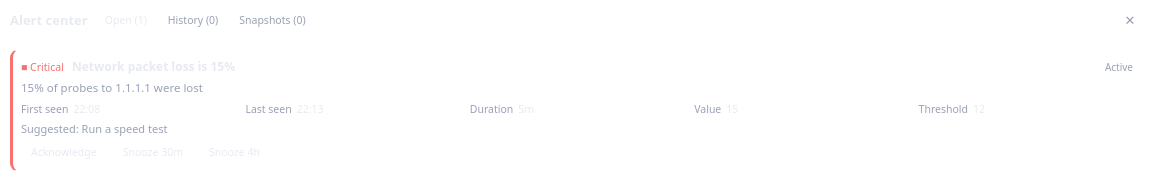
Scenario: alert center › explains that snapshots are redacted before they are stored
Click the tab "Snapshots (0)" at (272, 20), box 230,10 -> 315,30
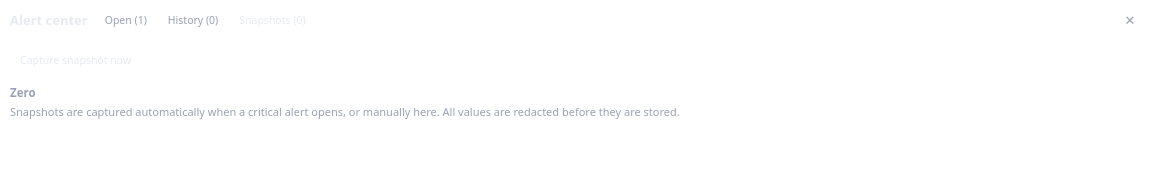
Expected: the text "redacted before they are stored" is shown, 10,104 -> 680,119
